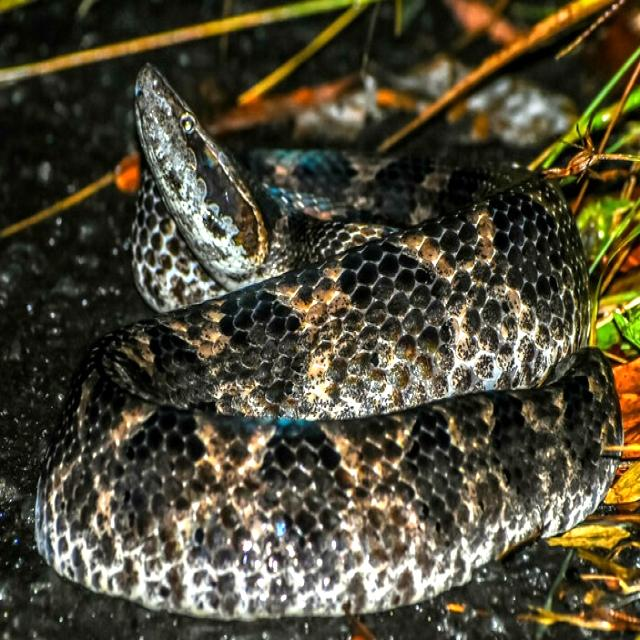Calloselasma rhodostoma: (36, 66, 621, 619)
snake: (36, 66, 621, 619)
